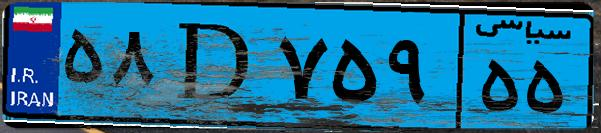5: (330, 28, 385, 110), (57, 26, 110, 100), (475, 38, 525, 113), (525, 38, 570, 115)
7: (270, 28, 330, 110)
8: (110, 28, 158, 98)
9: (385, 28, 445, 110)
D: (158, 12, 270, 120)
